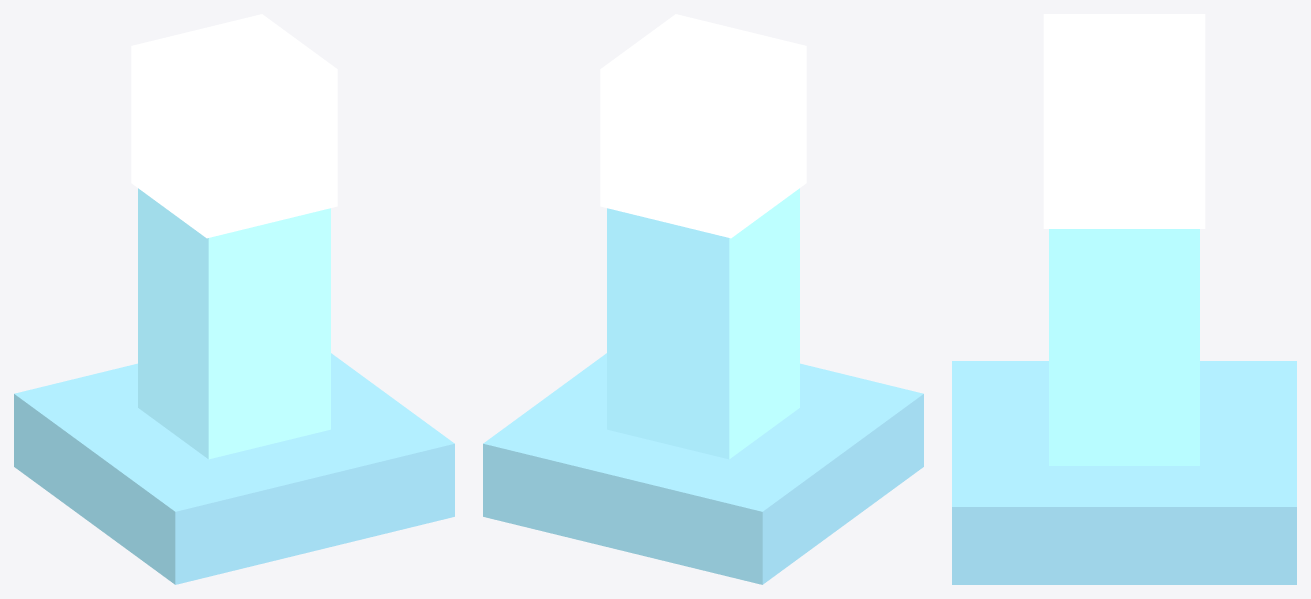
Rendered from turret_crio.glb.
3 renders of one model, left to right at view 1: azimuth 30°, elevation 25°; view 2: azimuth 150°, elevation 25°; view 3: azimuth 270°, elevation 25°, orthographic. The views are drawn at different scales.
Parts seen in each view (by area): view 1: Base, Pillar, Weapon; view 2: Base, Pillar, Weapon; view 3: Base, Pillar, Weapon.
Part boxes in pixels (bbox=[...]): Base: bbox=[14, 353, 454, 584]; Pillar: bbox=[138, 188, 330, 459]; Weapon: bbox=[131, 14, 337, 238]; Base: bbox=[483, 353, 923, 584]; Pillar: bbox=[607, 188, 799, 459]; Weapon: bbox=[600, 14, 806, 238]; Base: bbox=[952, 361, 1296, 584]; Pillar: bbox=[1049, 229, 1199, 465]; Weapon: bbox=[1043, 14, 1205, 228].
Size of the model in its own units: 1.6 by 2.38 by 1.6.
